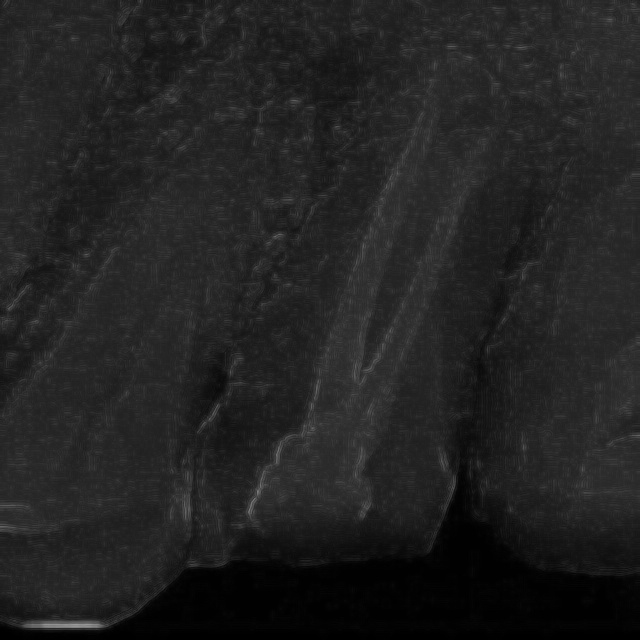Class 0- No endodontic treatment: (191, 29, 575, 597)
